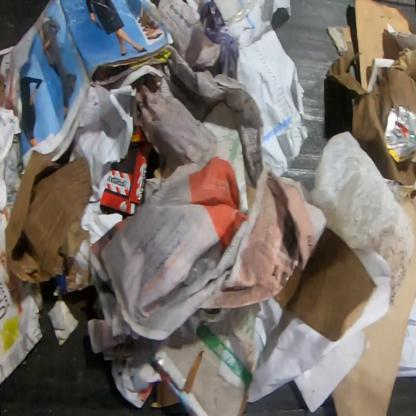cardboard: (331, 179, 415, 415), (324, 41, 415, 187), (272, 228, 378, 342), (151, 303, 256, 416), (5, 149, 92, 283), (0, 206, 44, 385), (354, 0, 416, 92), (99, 124, 152, 216)
metal: (383, 105, 416, 163)
soft_plastic: (301, 130, 415, 309)
